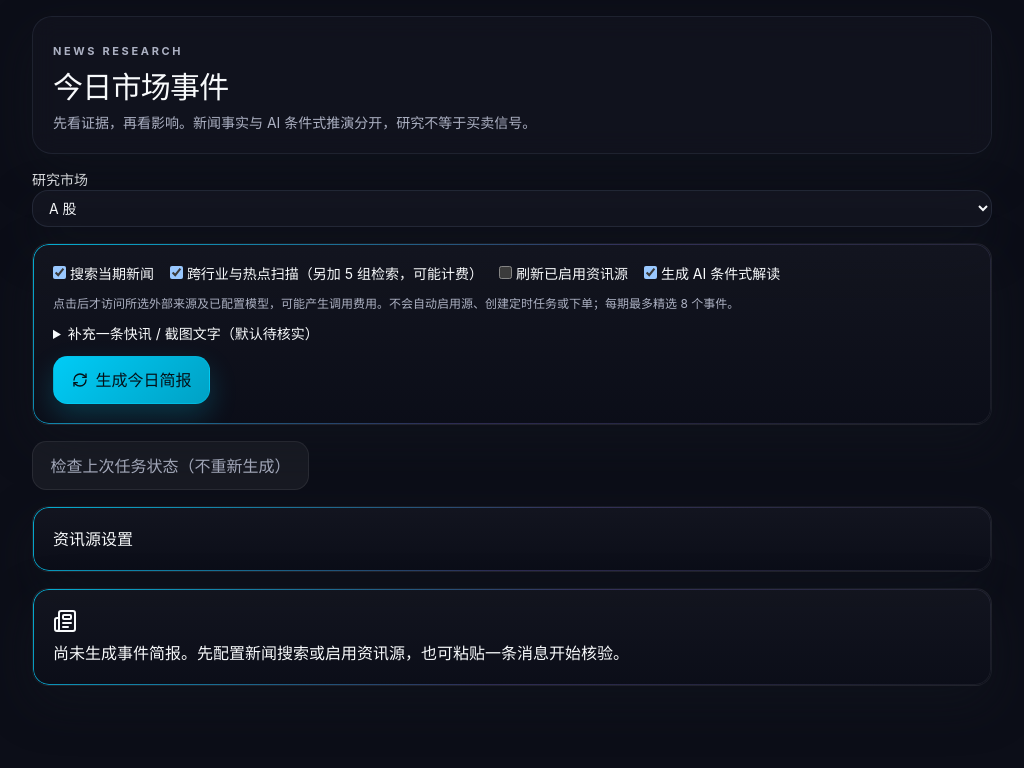
Test: MarketEventsPage › recovers a stored request by status lookup only
Expected: the text "尚未生成事件简报。先配置新闻搜索或启用资讯源，也可粘贴一条消息开始核验。" is shown, [53,643,629,663]
Click the button "检查上次任务状态（不重新生成）".
click(171, 466)  # box [32,441,309,490]
(page scrolled)
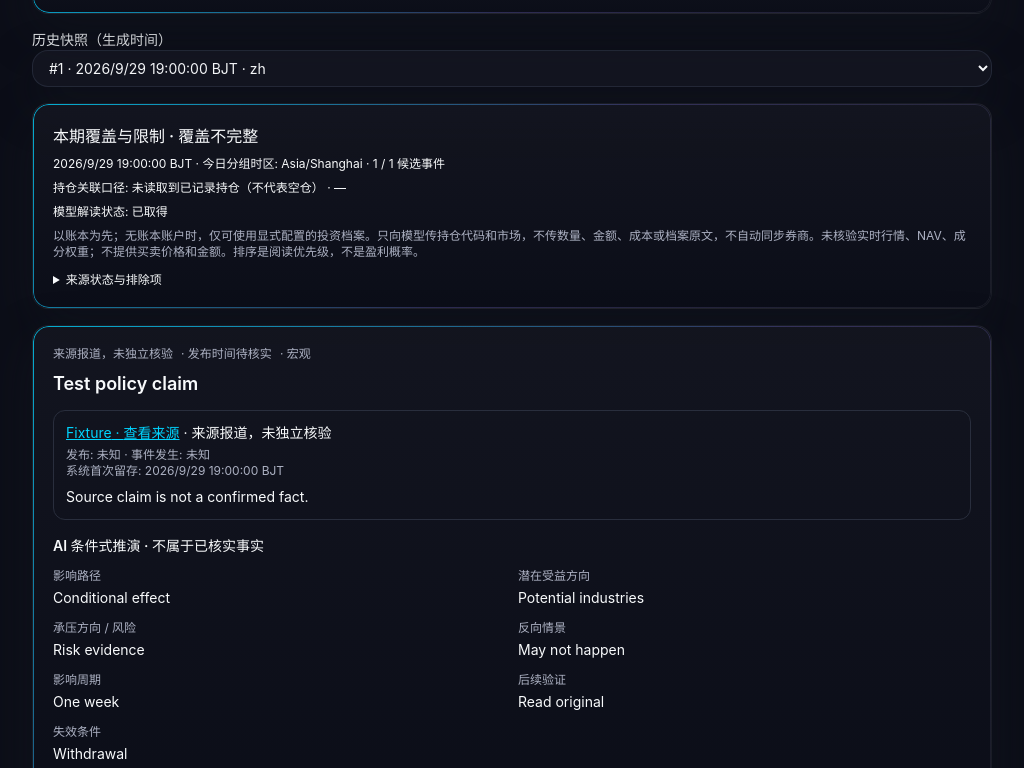
Now the heading "Test policy claim" is shown, box [53,373,198,394]
